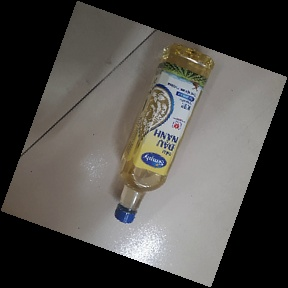Simply: (113, 42, 216, 224)
